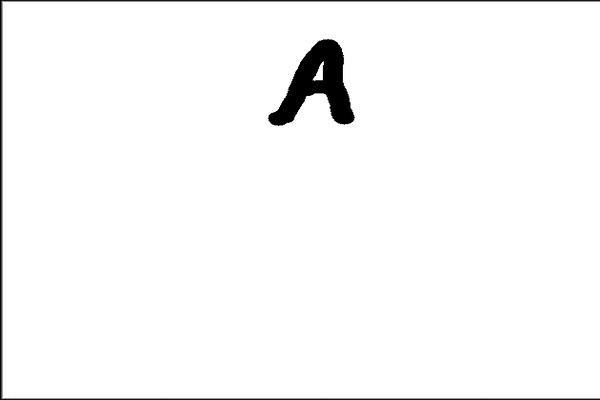A: (259, 30, 362, 134)
